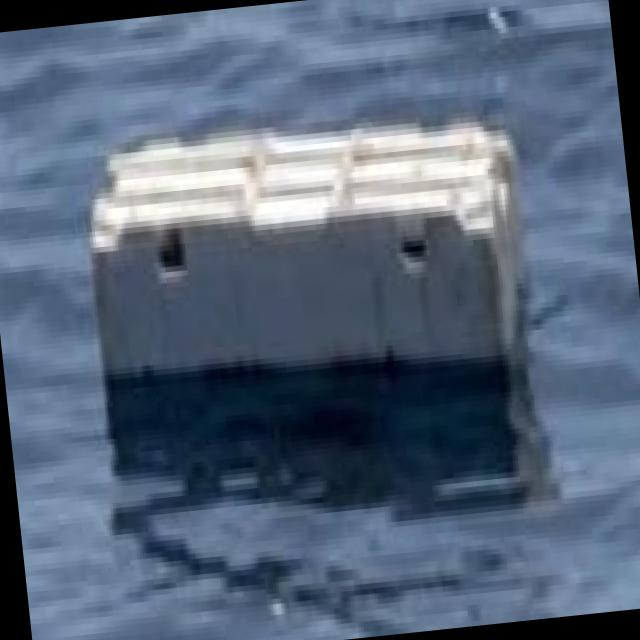electronic: (73, 91, 541, 439)
